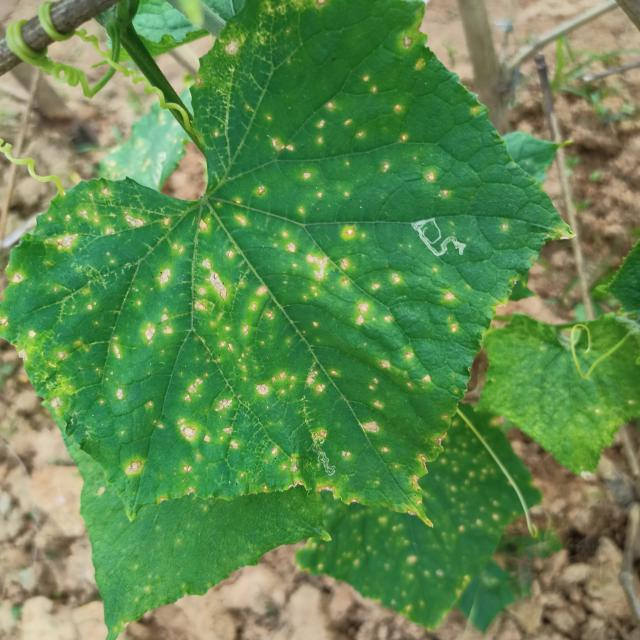disease_cucumber: (52, 35, 476, 509)
